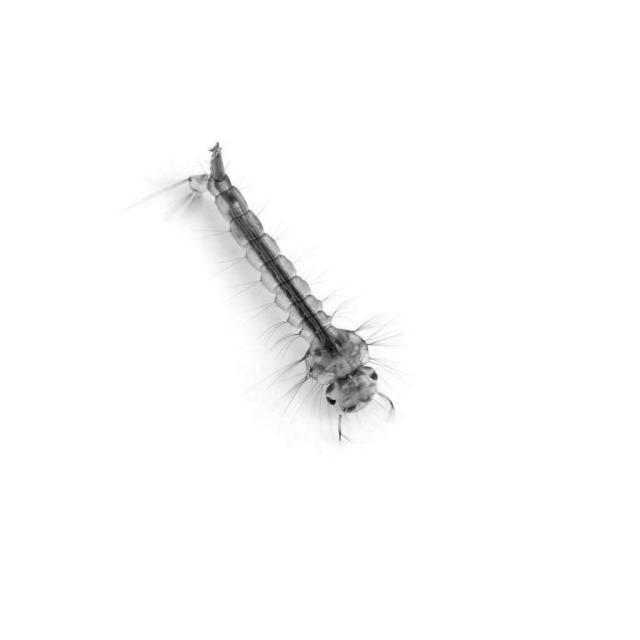larvas: (185, 147, 378, 415)
